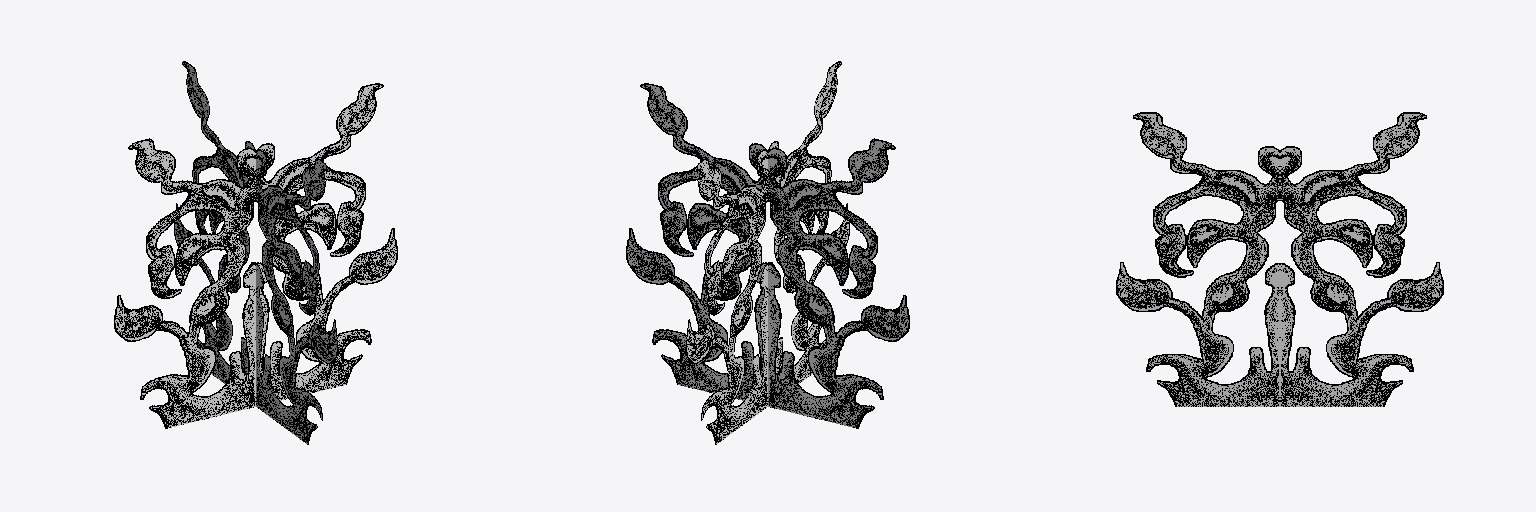
3 views of the same model, side by side, from view 1: azimuth 30°, elevation 25°; view 2: azimuth 150°, elevation 25°; view 3: azimuth 270°, elevation 25° (orthographic).
Visible parts, largest first — view 1: plane; view 2: plane; view 3: plane.
Boxes of the visible parts, x1,y1,x2,y2 form: plane: [114, 61, 397, 444]; plane: [626, 61, 909, 444]; plane: [1116, 112, 1443, 406].
Size of the model in its own units: 1 by 1 by 1.
1 materials, 1 textured.